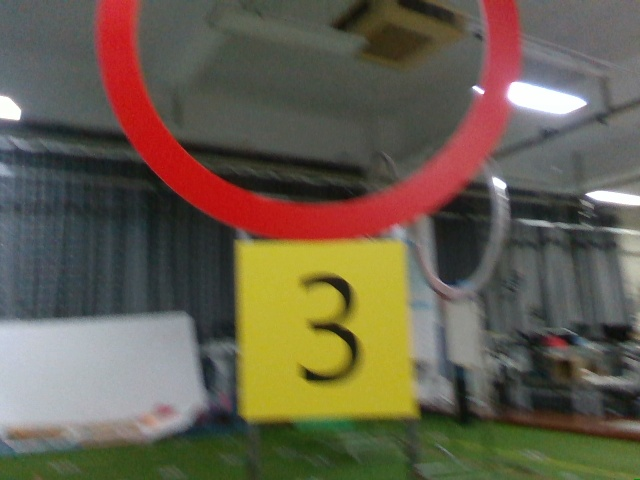target: (235, 243, 411, 410)
